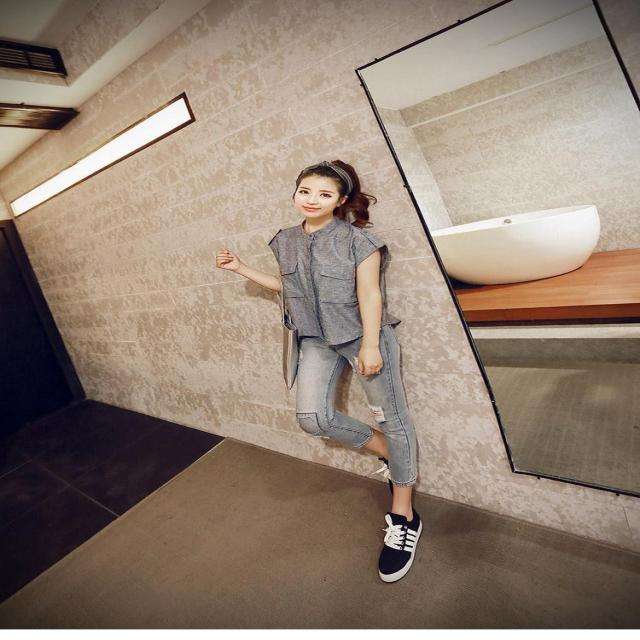short-sleeve-top: (250, 214, 417, 355)
trousers: (243, 365, 474, 506)
